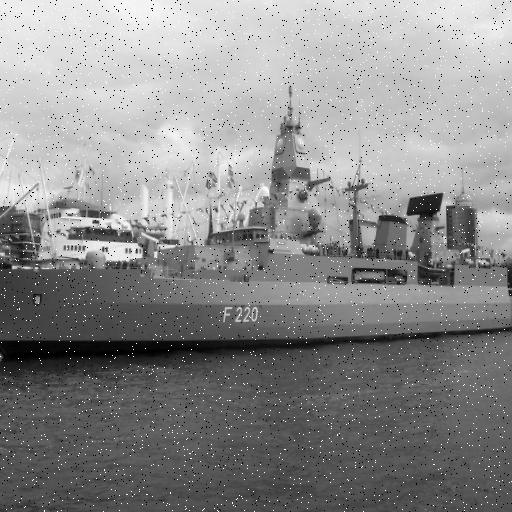Fragata: (1, 81, 512, 368)
